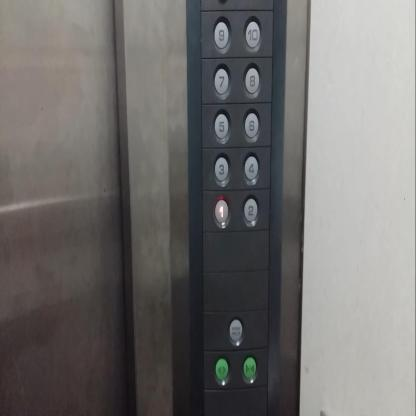1: (210, 192, 232, 231)
10: (240, 12, 263, 53)
2: (239, 191, 261, 230)
3: (210, 149, 233, 190)
4: (239, 148, 262, 188)
5: (210, 105, 233, 146)
6: (240, 104, 262, 145)
7: (210, 60, 233, 101)
8: (240, 60, 263, 100)
9: (210, 13, 233, 54)
close: (240, 351, 259, 386)
open: (212, 353, 231, 387)
text_open: (226, 313, 245, 347)
